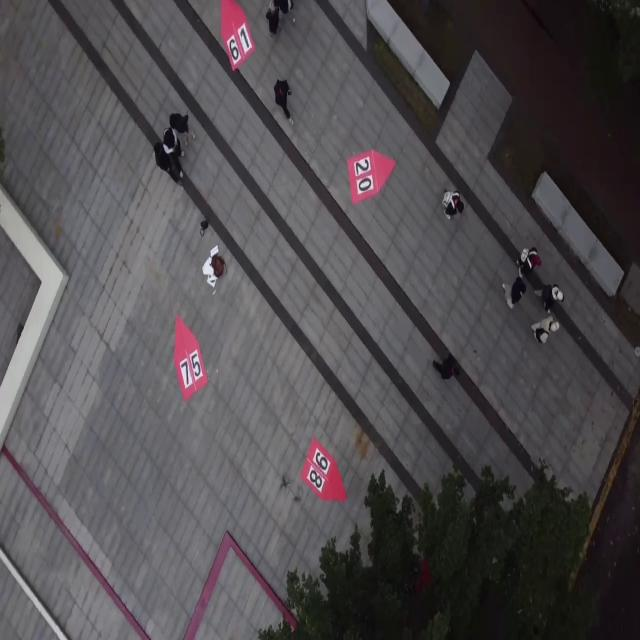-sign-: (301, 436, 347, 504), (174, 314, 208, 403), (347, 148, 394, 202), (221, 0, 255, 72)
